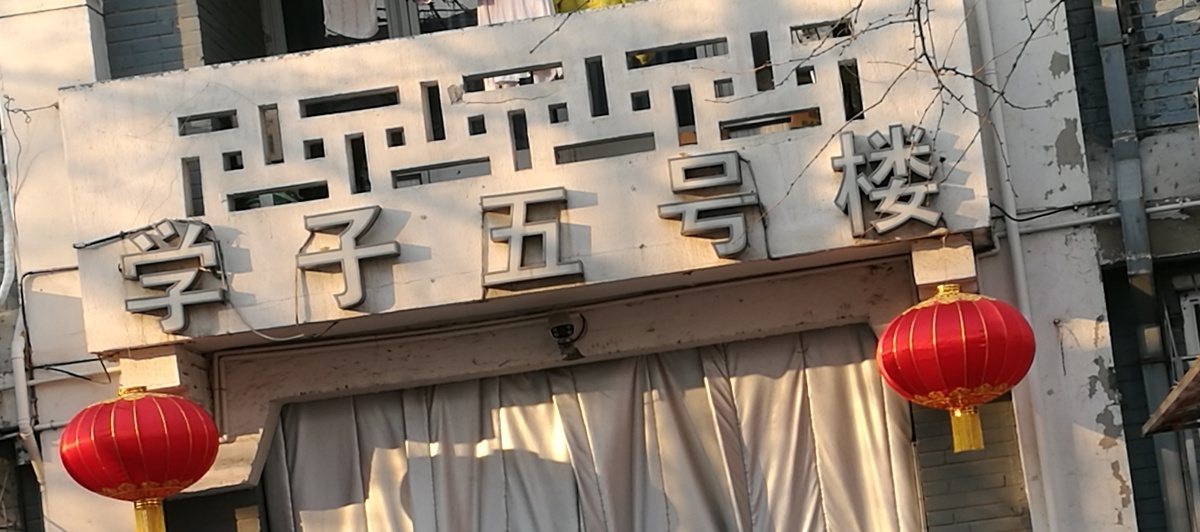text: (113, 113, 128, 345), (129, 113, 144, 345), (145, 113, 160, 345), (161, 113, 176, 345), (177, 113, 192, 345), (193, 113, 208, 345), (209, 113, 224, 345), (225, 113, 240, 345), (241, 113, 256, 345), (257, 113, 272, 345), (273, 113, 288, 345), (289, 113, 304, 345), (305, 113, 320, 345), (321, 113, 336, 345), (337, 113, 352, 345), (353, 113, 368, 345), (369, 113, 384, 345), (385, 113, 400, 345), (401, 113, 416, 345), (417, 113, 432, 345), (433, 113, 448, 345), (449, 113, 464, 345), (465, 113, 480, 345), (481, 113, 496, 345), (497, 113, 512, 345), (513, 113, 528, 345), (529, 113, 544, 345), (545, 113, 560, 345), (561, 113, 576, 345), (577, 113, 592, 345), (593, 113, 608, 345), (609, 113, 624, 345), (625, 113, 640, 345), (641, 113, 656, 345), (657, 113, 672, 345), (673, 113, 688, 345), (689, 113, 704, 345), (705, 113, 720, 345), (721, 113, 736, 345), (737, 113, 752, 345), (753, 113, 768, 345), (769, 113, 784, 345), (785, 113, 800, 345), (801, 113, 816, 345), (817, 113, 832, 345), (833, 113, 848, 345), (849, 113, 864, 345), (865, 113, 880, 345), (881, 113, 896, 345), (897, 113, 912, 345), (913, 113, 928, 345), (929, 113, 944, 345), (945, 113, 953, 345), (111, 113, 112, 345)
